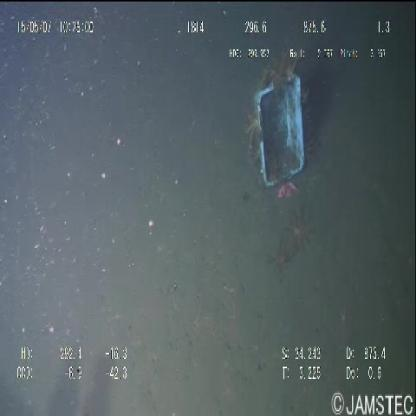Rác: (249, 57, 307, 199)
